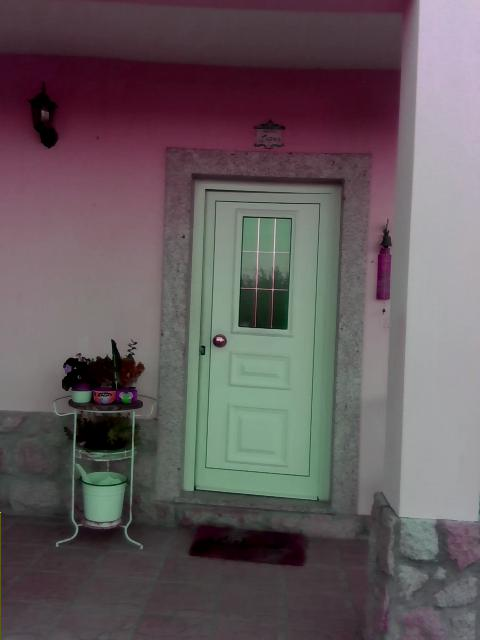closed_door: (181, 171, 344, 505)
